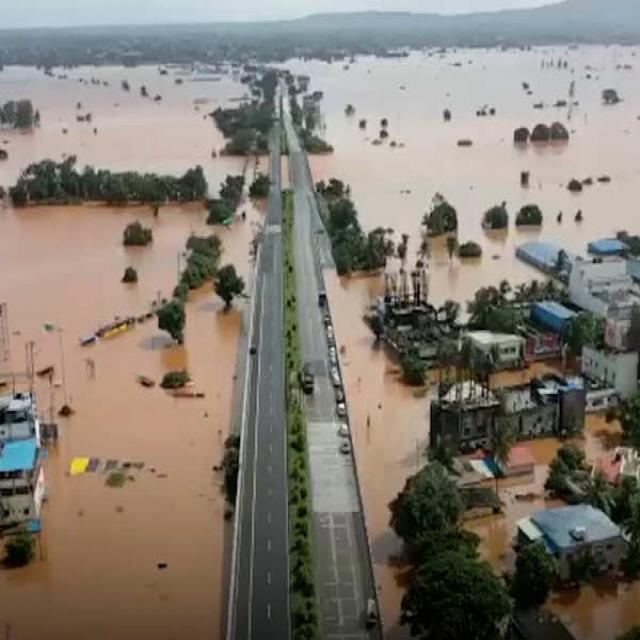flood: (0, 203, 259, 640), (288, 45, 640, 304), (326, 271, 432, 640), (0, 65, 247, 192), (464, 414, 624, 576), (547, 581, 640, 640), (482, 358, 563, 391), (428, 366, 476, 386)
house: (522, 504, 628, 588), (0, 434, 47, 524), (571, 255, 640, 316), (434, 384, 494, 450), (581, 344, 637, 391), (506, 384, 556, 436), (469, 329, 524, 370)
